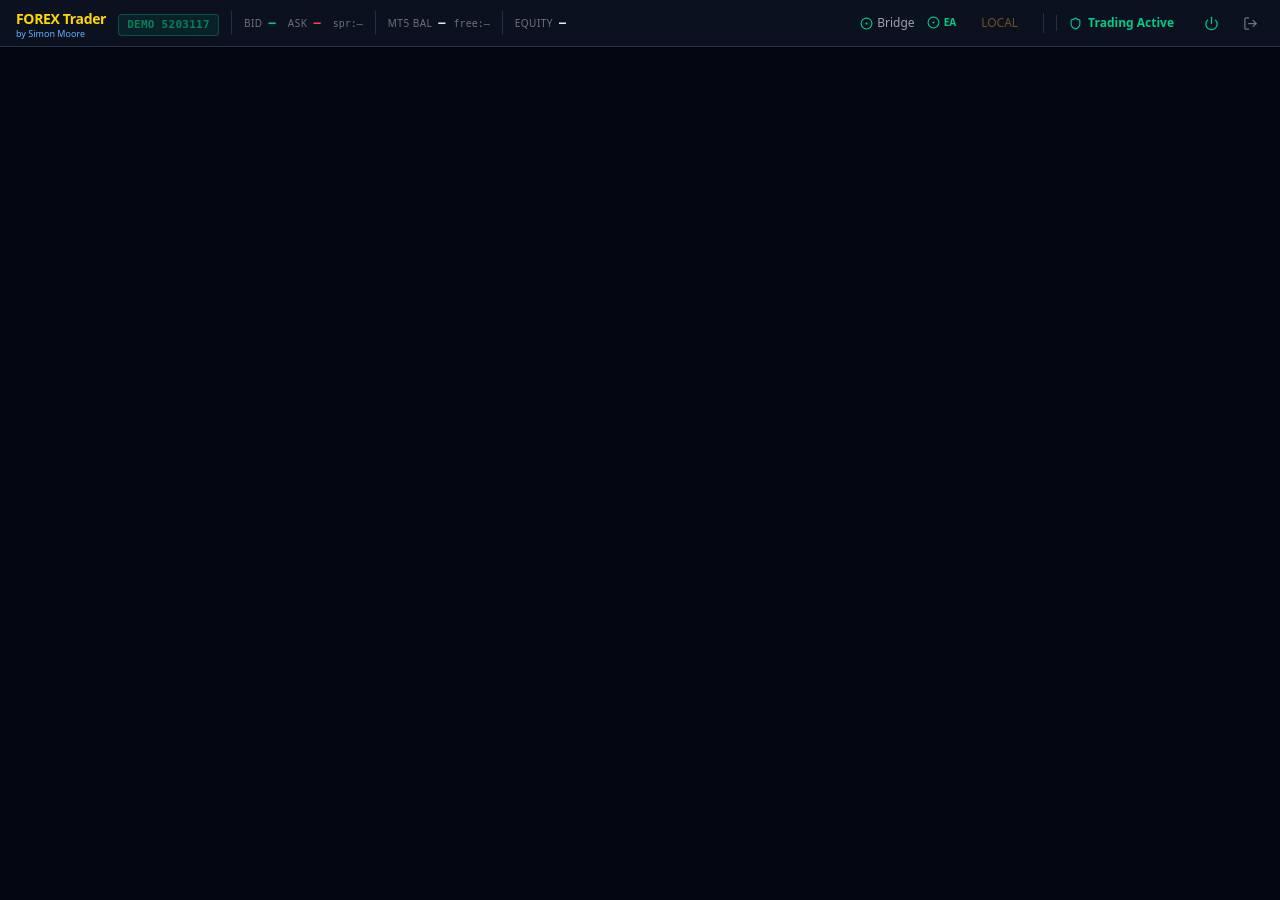
Test: pausing and resuming, from the one control › refuses an unparseable moment rather than silently pausing for 4 hours
Click the button with test id "trading-status-badge" at (1121, 23), box [1056, 15, 1186, 31]
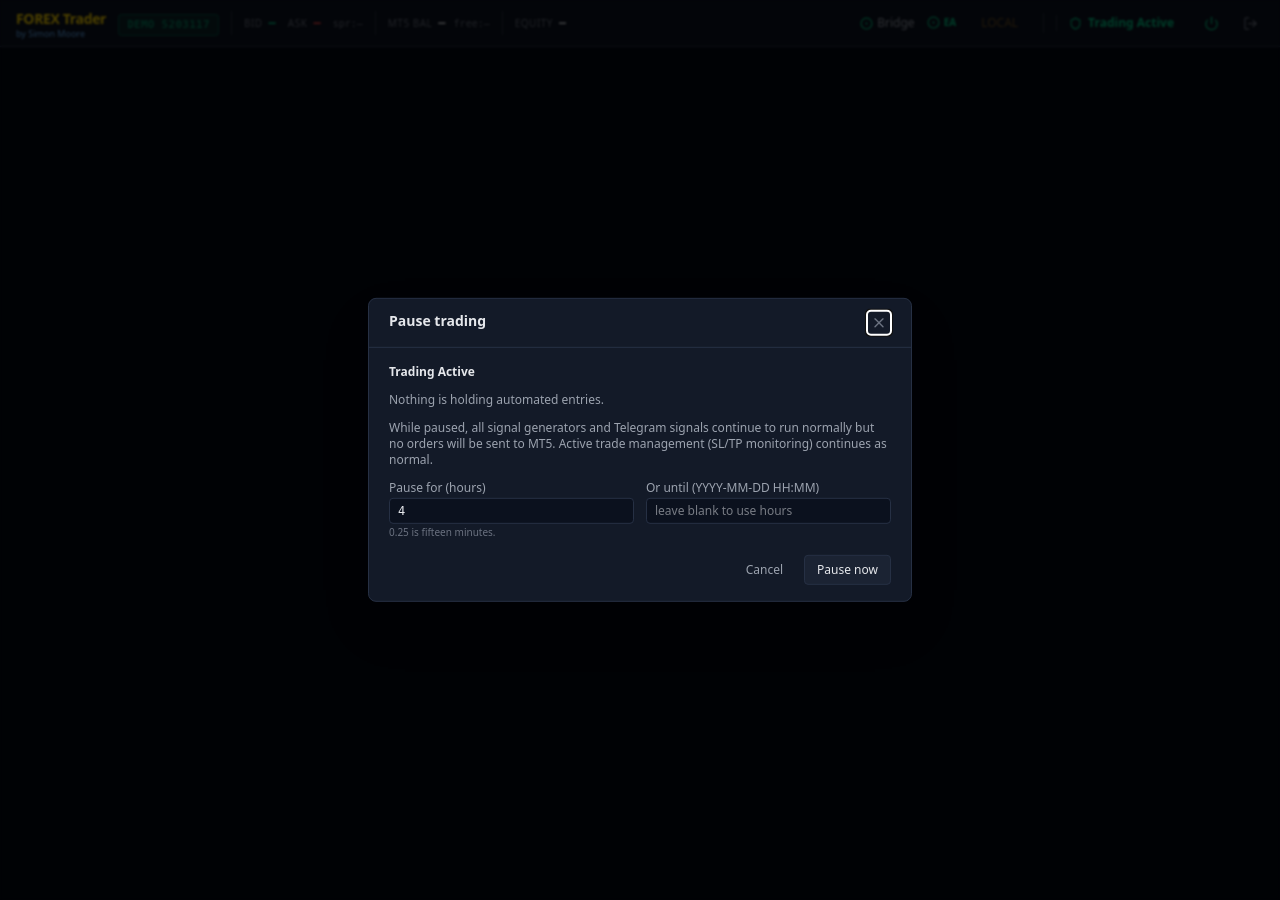
Type "next tuesday" into the field labelled "Or until (YYYY-MM-DD HH:MM)" at (768, 511), box [646, 498, 891, 524]
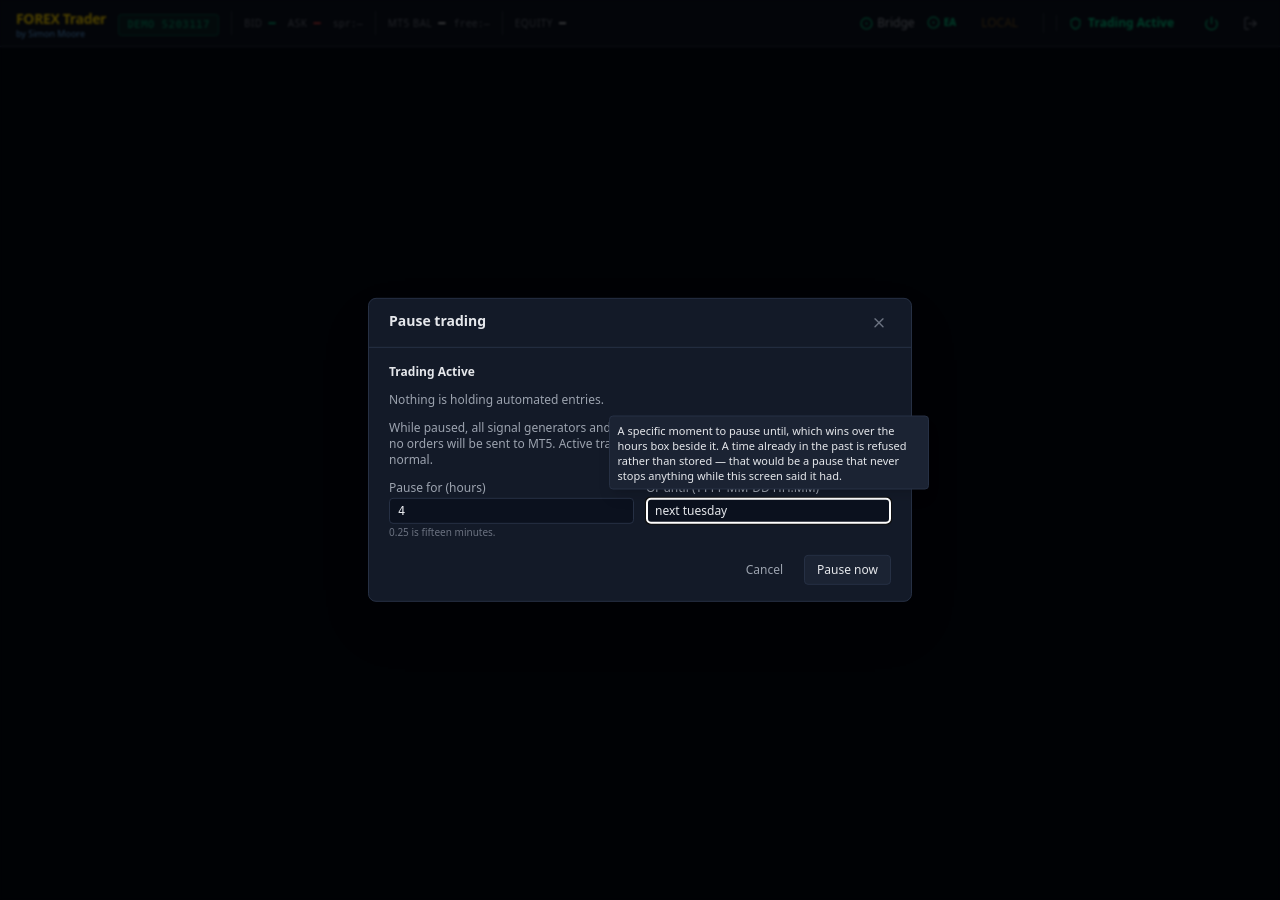
Click the button "Pause now" at (848, 570), box [804, 555, 891, 585]
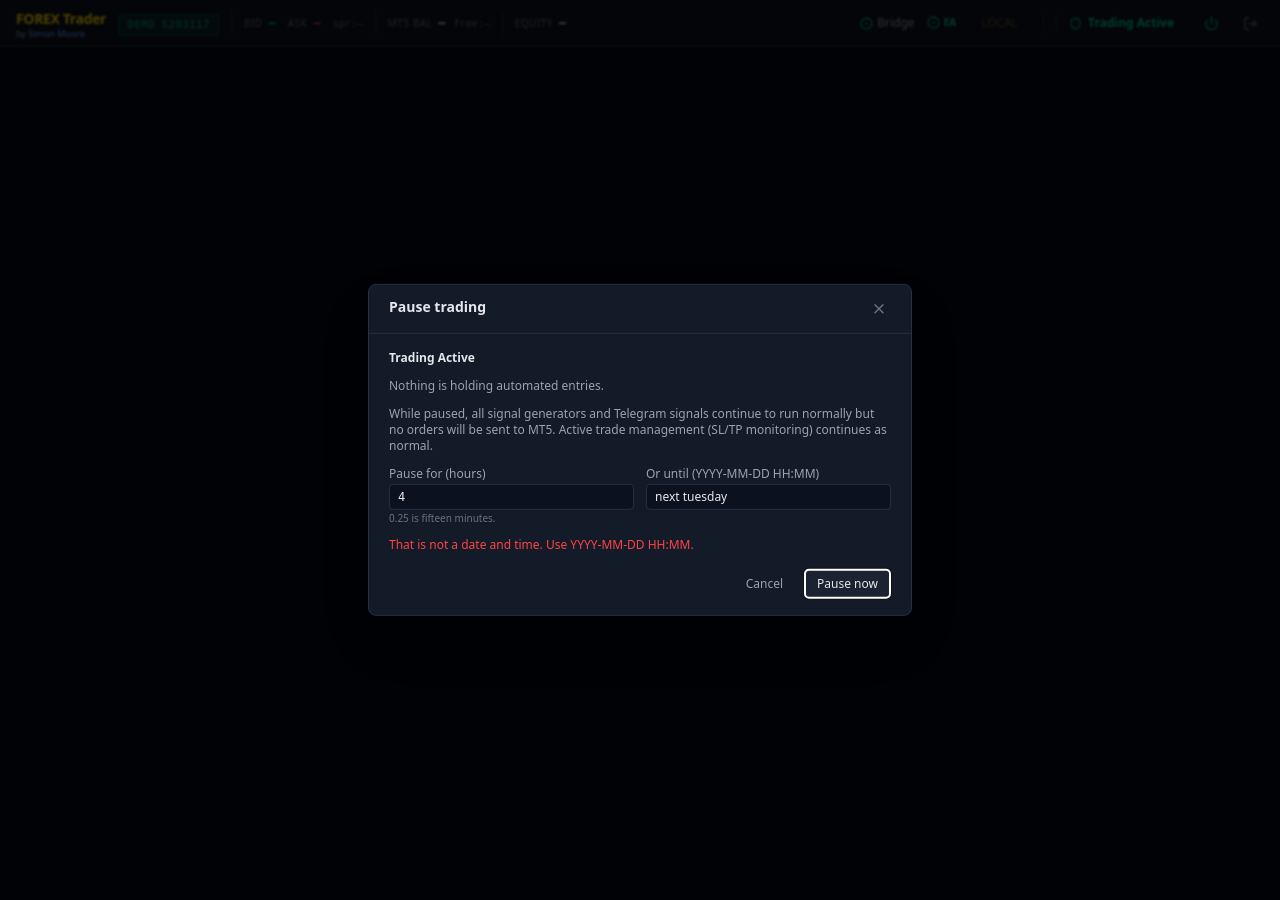
Expected: the message shows "not a date and time", [389, 536, 694, 553]
